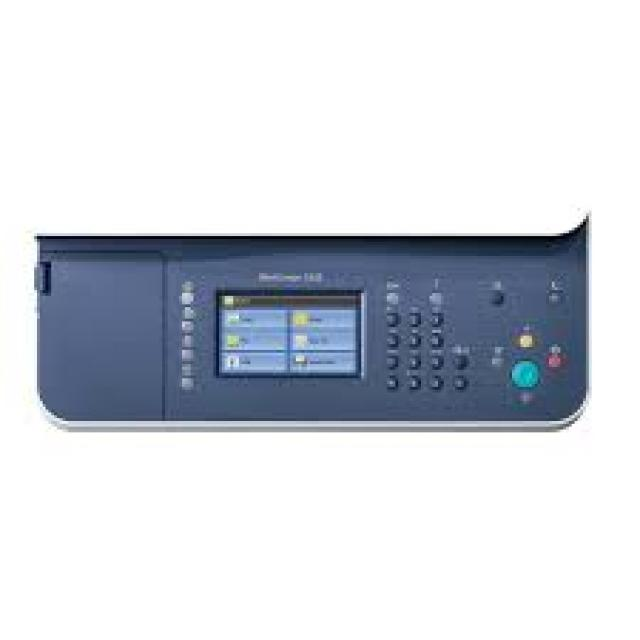printer: (14, 172, 632, 480)
